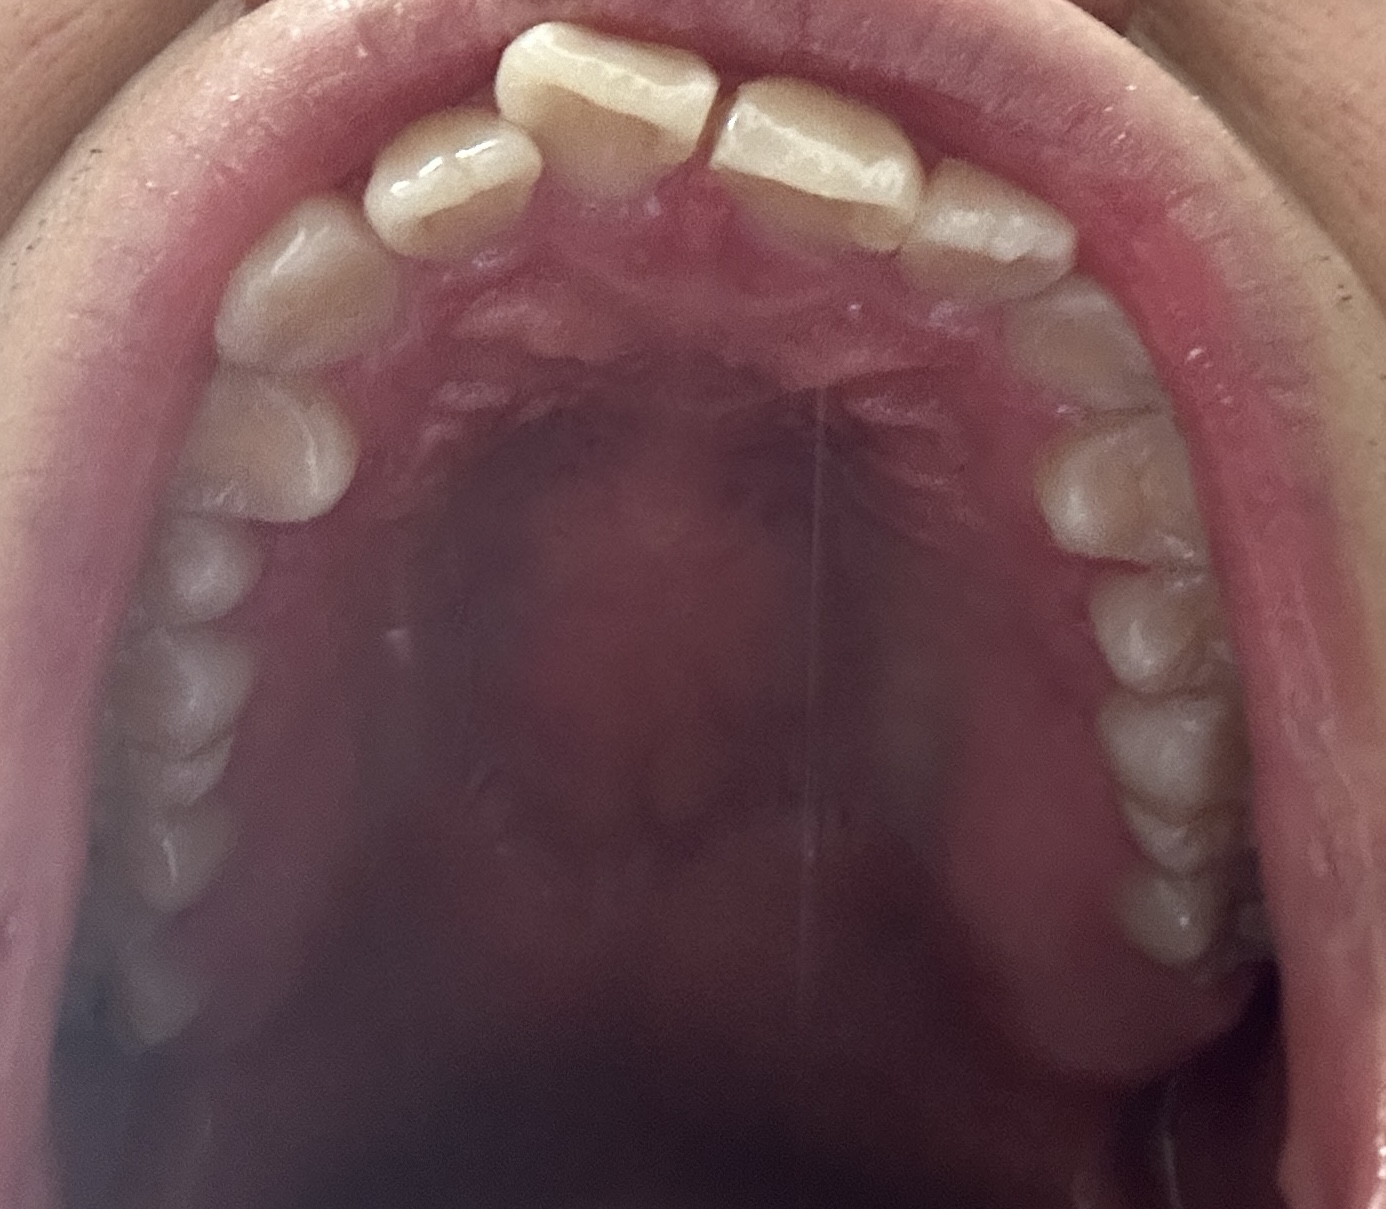teeth: (494, 24, 707, 201), (718, 78, 915, 244), (216, 189, 395, 366), (157, 374, 356, 526), (906, 157, 1068, 310), (1043, 422, 1214, 562), (369, 106, 523, 259), (1016, 302, 1163, 398), (118, 518, 249, 625)
